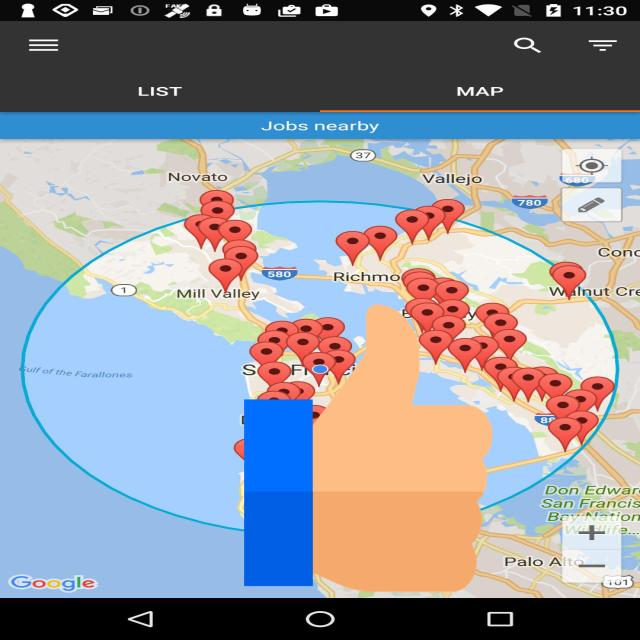privacy zuckering: (244, 297, 493, 599)
